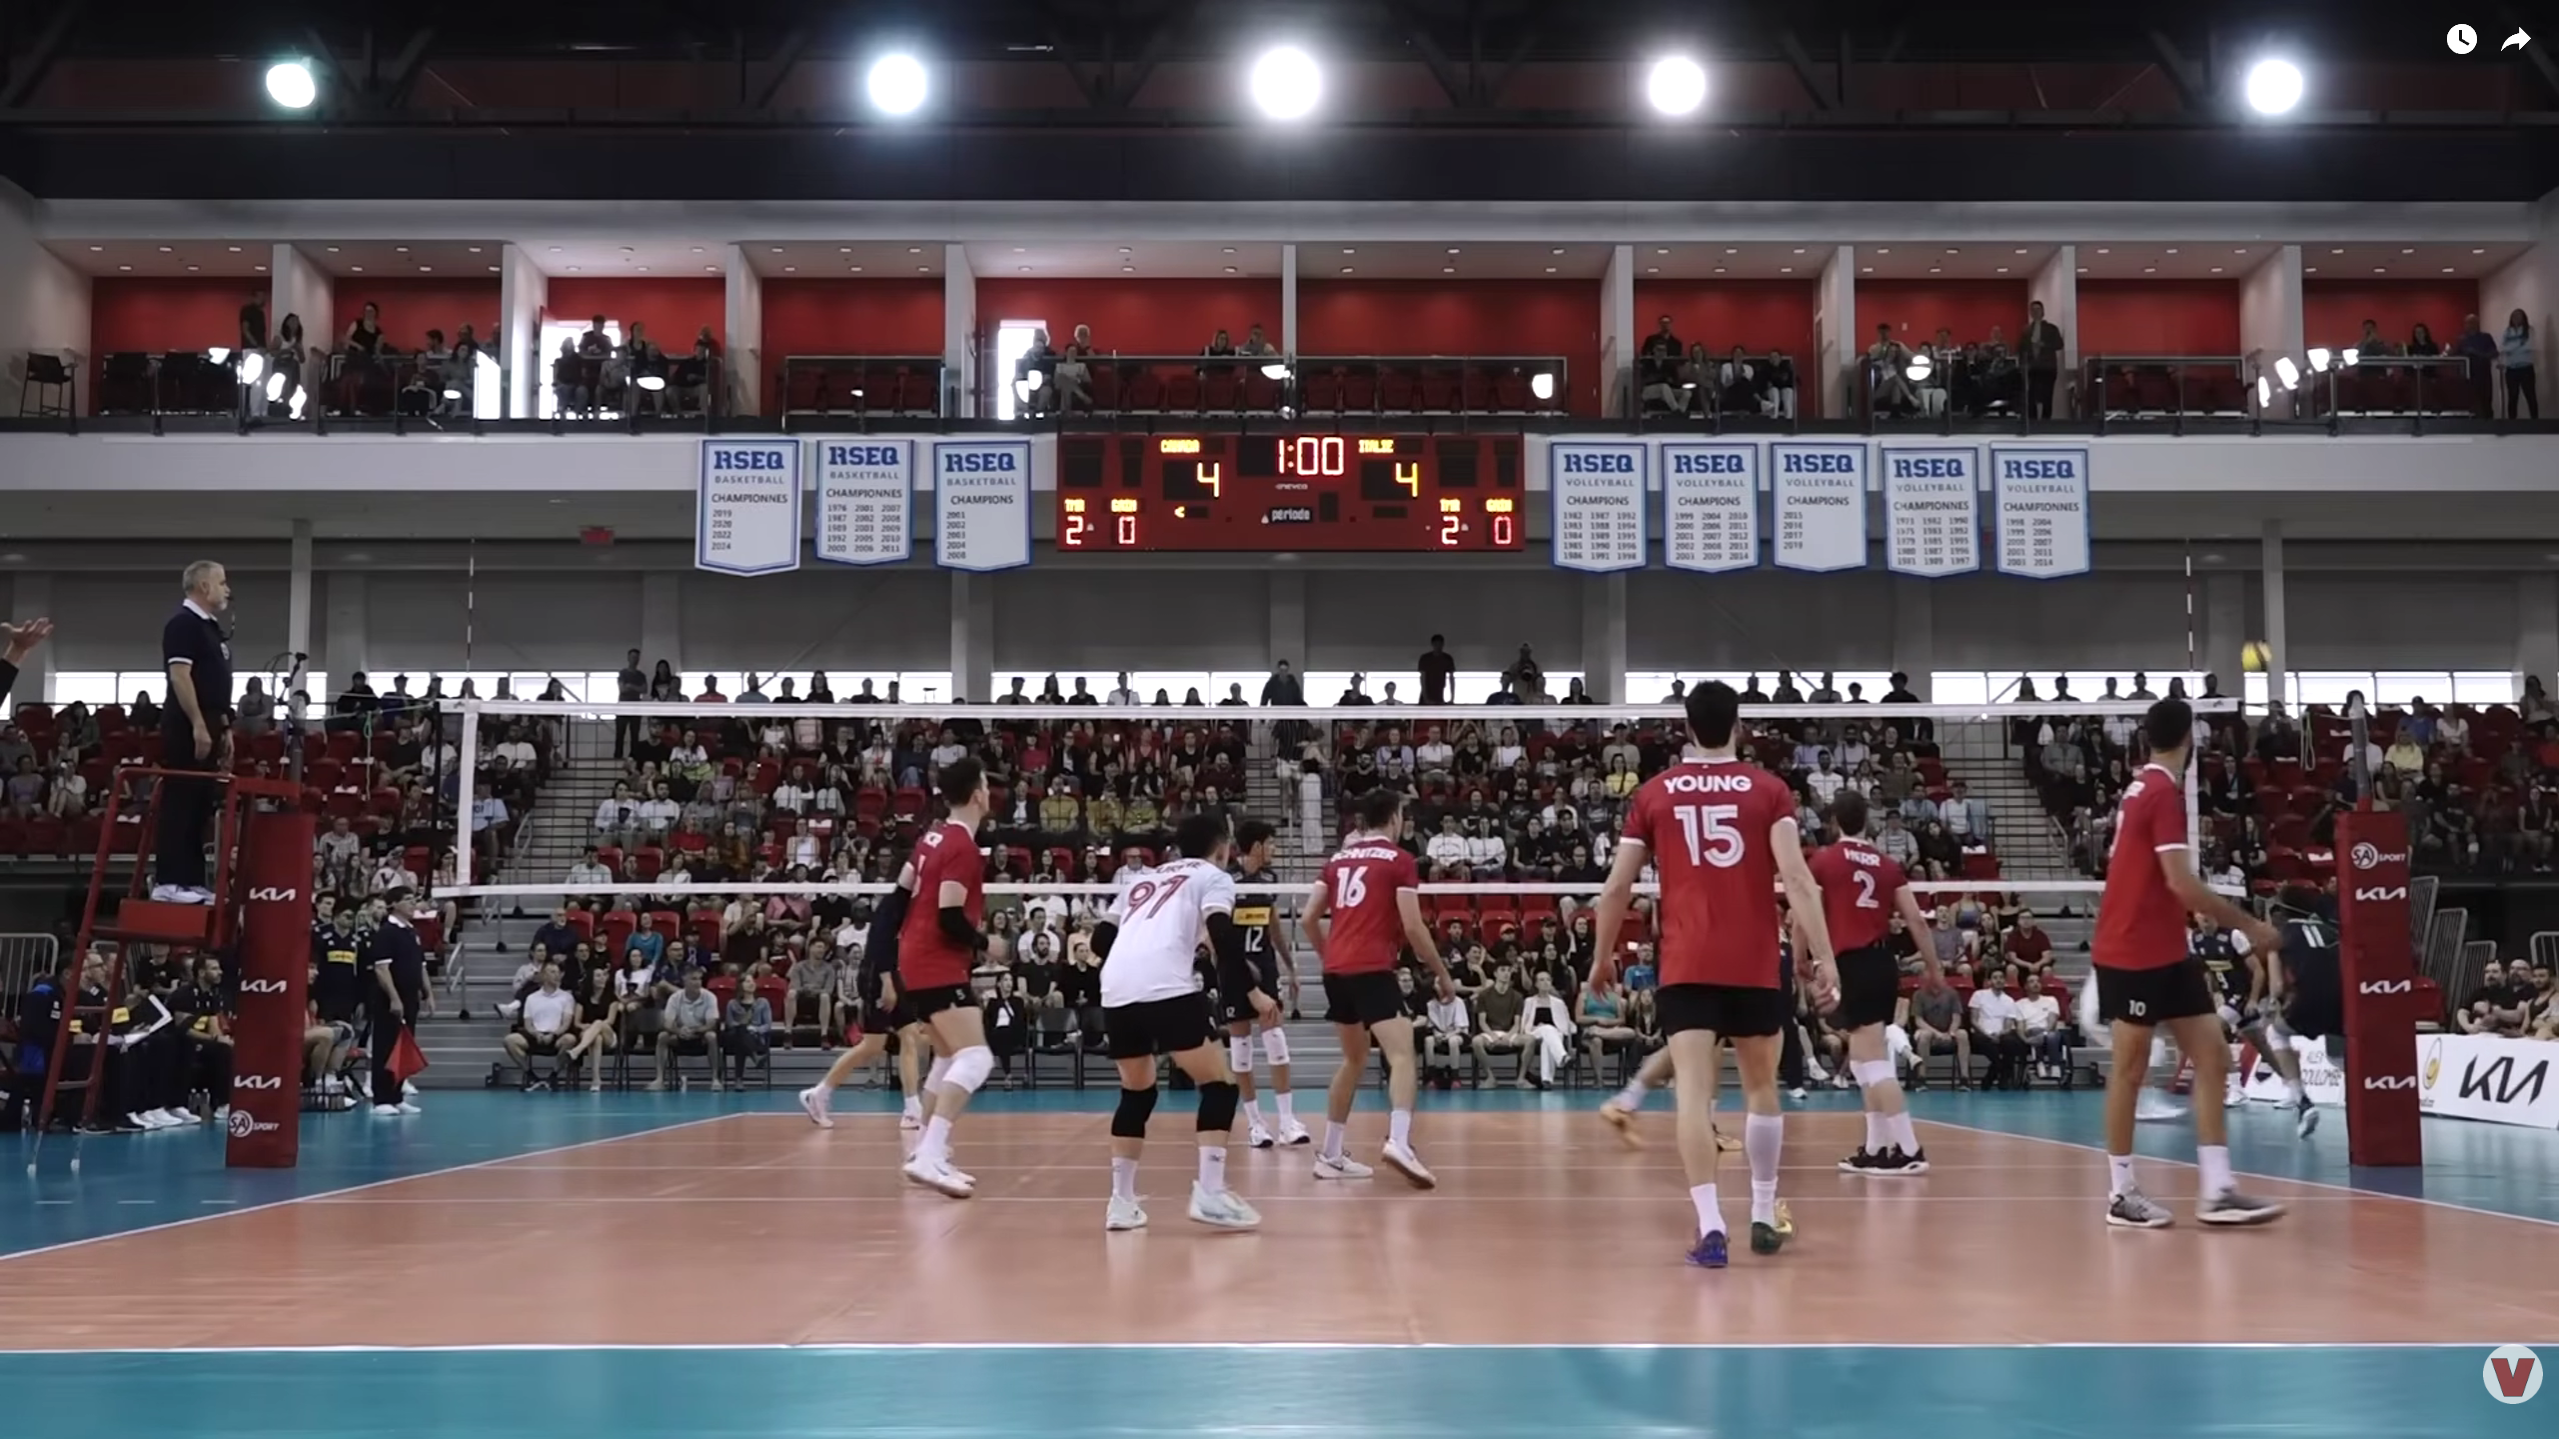Ball: (2241, 638, 2273, 675)
